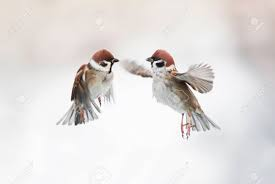hsparrow: (124, 38, 234, 151), (56, 46, 122, 132)
